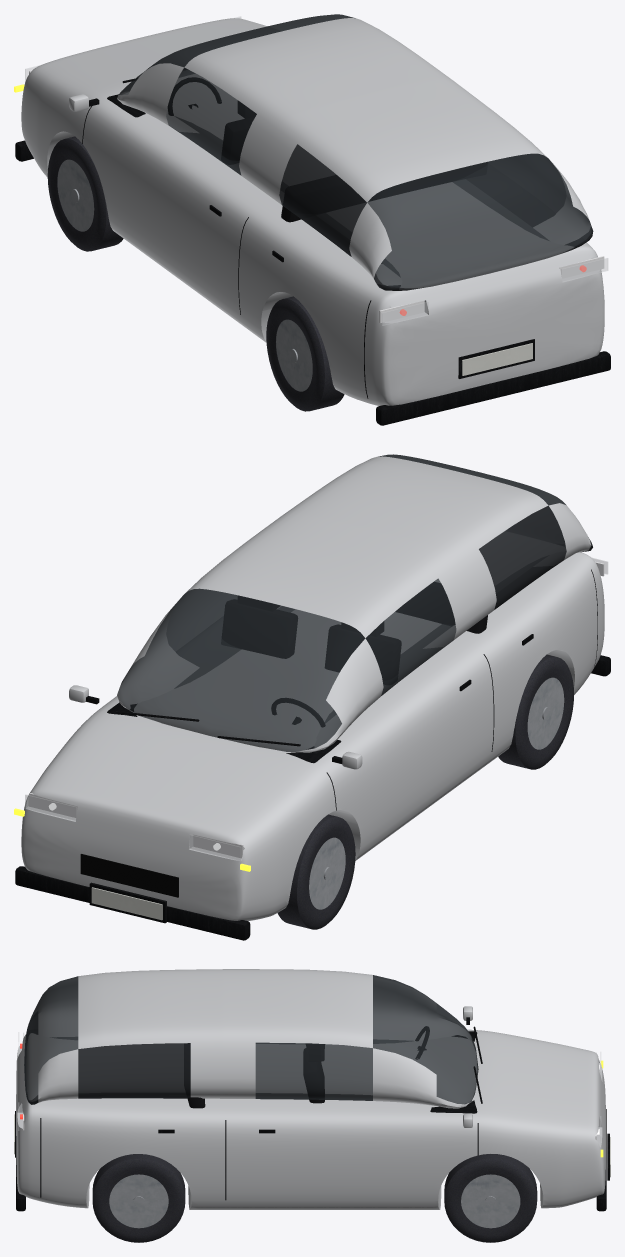
Rendered from suv_silver.gltf.
3 renders of one model, top to bottom at view 1: azimuth 30°, elevation 25°; view 2: azimuth 150°, elevation 25°; view 3: azimuth 270°, elevation 25°, orthographic. The views are drawn at different scales.
Visible parts, largest first — view 1: suv_silver; view 2: suv_silver; view 3: suv_silver.
Boxes of the visible parts, left/top/right/bottom form: suv_silver: left=14, top=14, right=610, bottom=425; suv_silver: left=14, top=454, right=610, bottom=940; suv_silver: left=14, top=969, right=610, bottom=1242.
Bounding box in the file's own units: 2.14 × 1.73 × 4.75.
Materials: 17 (8 with a texture image).
